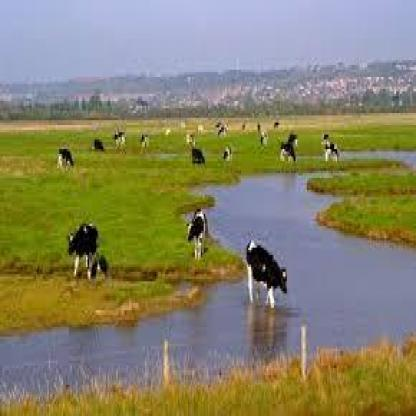cow: (246, 239, 288, 309), (68, 222, 101, 278), (187, 208, 209, 258), (58, 146, 74, 170), (279, 142, 298, 161), (322, 142, 338, 161), (192, 148, 207, 167), (115, 130, 126, 147), (224, 145, 231, 164)
